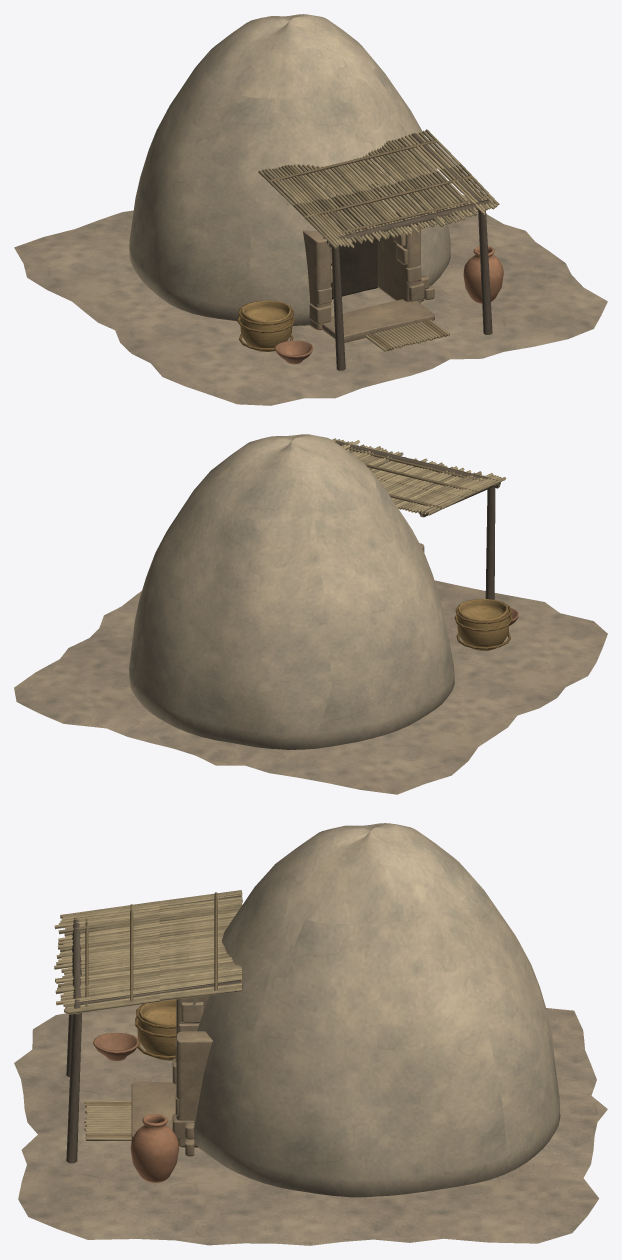
The model's file is starterHut.glb.
3 renders of one model, top to bottom at view 1: azimuth 30°, elevation 25°; view 2: azimuth 150°, elevation 25°; view 3: azimuth 270°, elevation 25°, orthographic. The views are drawn at different scales.
Visible parts, largest first — view 1: starterHut; view 2: starterHut; view 3: starterHut.
Part boxes in pixels (bbox=[...]): starterHut: bbox=[14, 14, 607, 405]; starterHut: bbox=[14, 434, 607, 794]; starterHut: bbox=[14, 823, 607, 1245].
Size of the model in its own units: 4.97 by 2.76 by 5.06.
5 materials, 5 textured.
